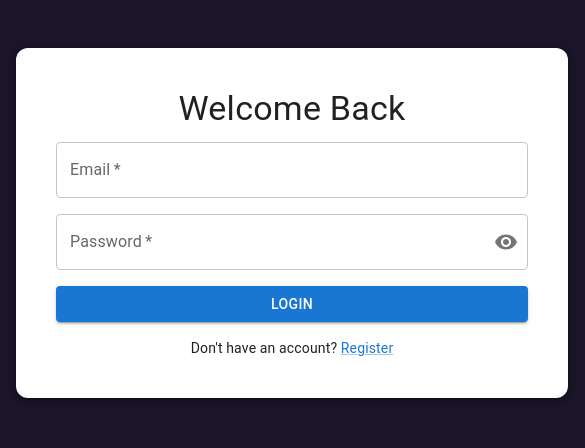
Test: LoginPage › error messages › should show the verify email message when supabase returns no error but no session
Type "user@test.com" into the field labelled "Email *" at (292, 170), box x1=56 y1=142 x2=528 y2=198
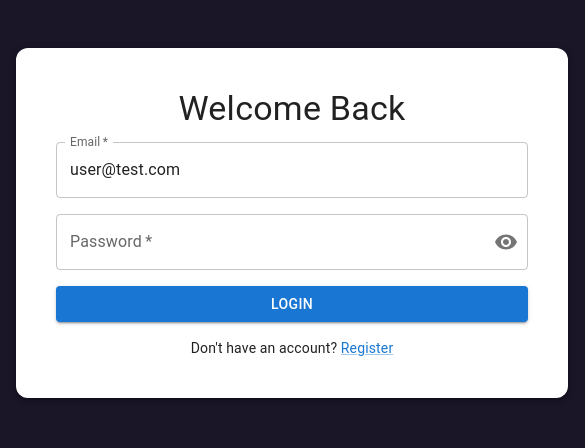
Type "correctpassword" into the password field labelled "Password *" at (267, 242), box x1=56 y1=214 x2=478 y2=270
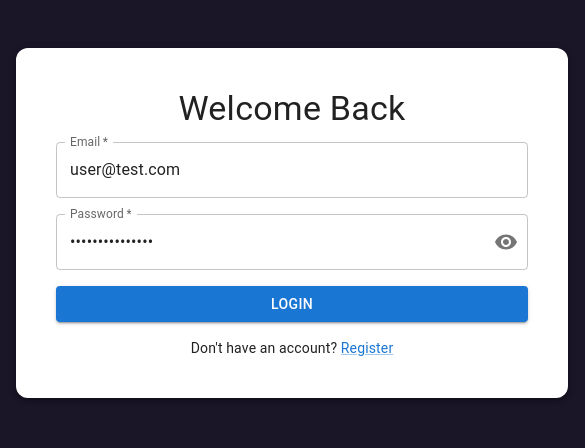
Click the button "Login" at (292, 304), box x1=56 y1=286 x2=528 y2=322
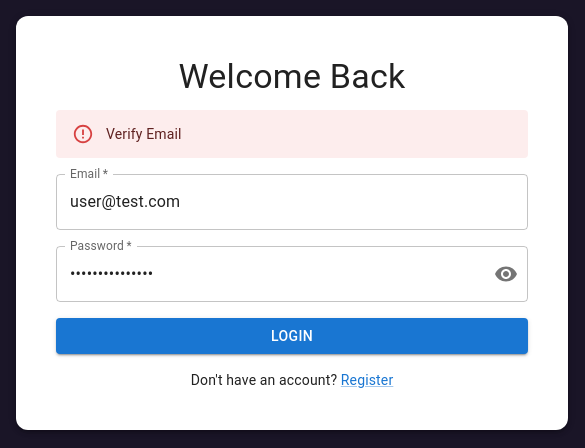
Now the text "Verify Email" is shown, box x1=106 y1=126 x2=182 y2=142
